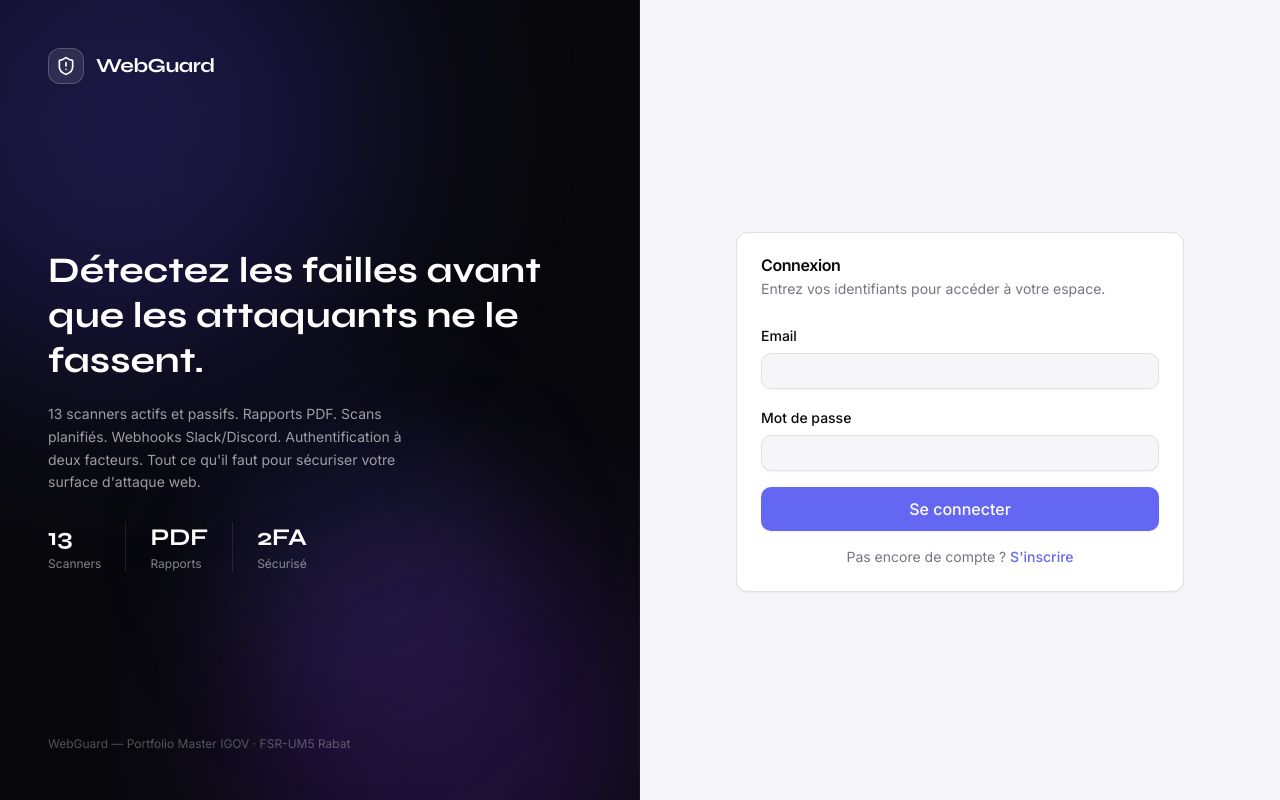
Scenario: LoginPage › switches to TOTP step when totp_required is true
Type "u@test.com" into the field labelled "Email".
click(960, 371); type("u@test.com")  # box [761,353,1159,389]
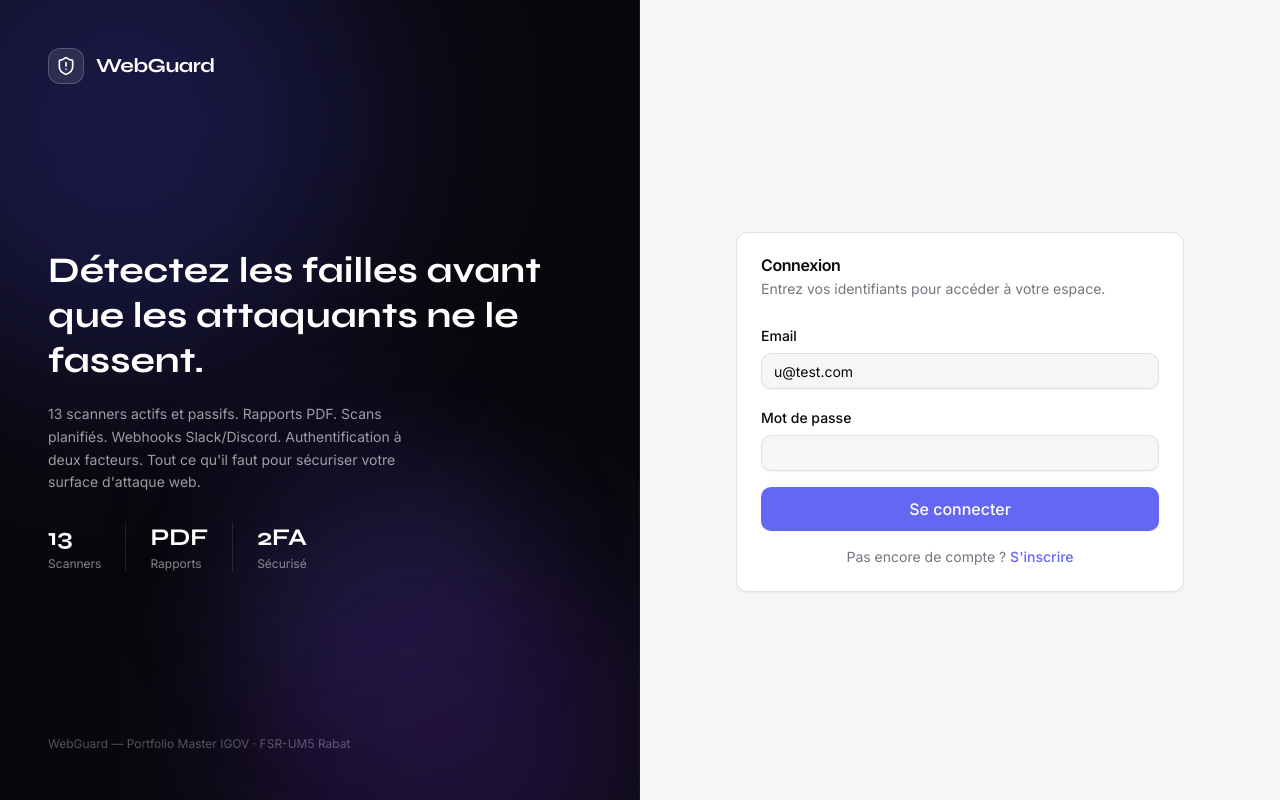
Type "password" into the password field labelled "Mot de passe".
click(960, 453); type("password")  # box [761,435,1159,471]
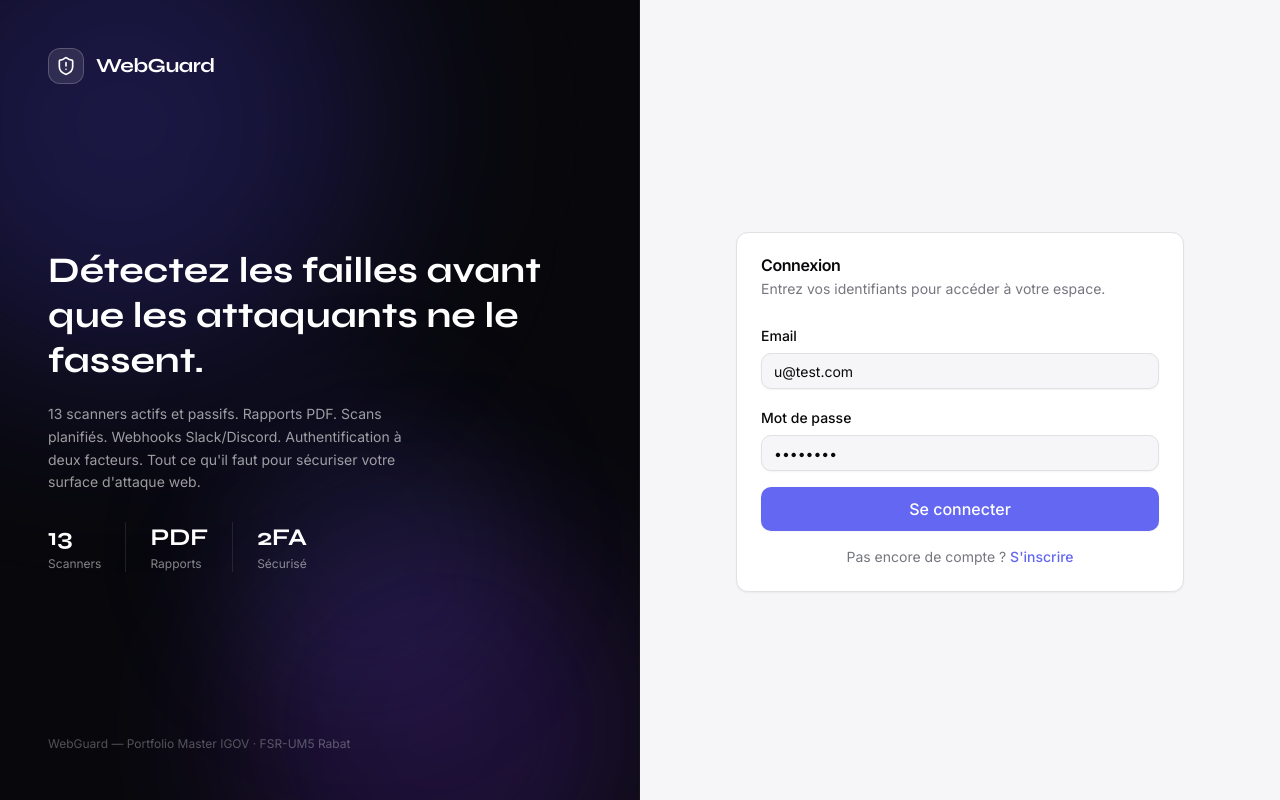
Click the button "Se connecter".
click(960, 509)  # box [761,487,1159,531]
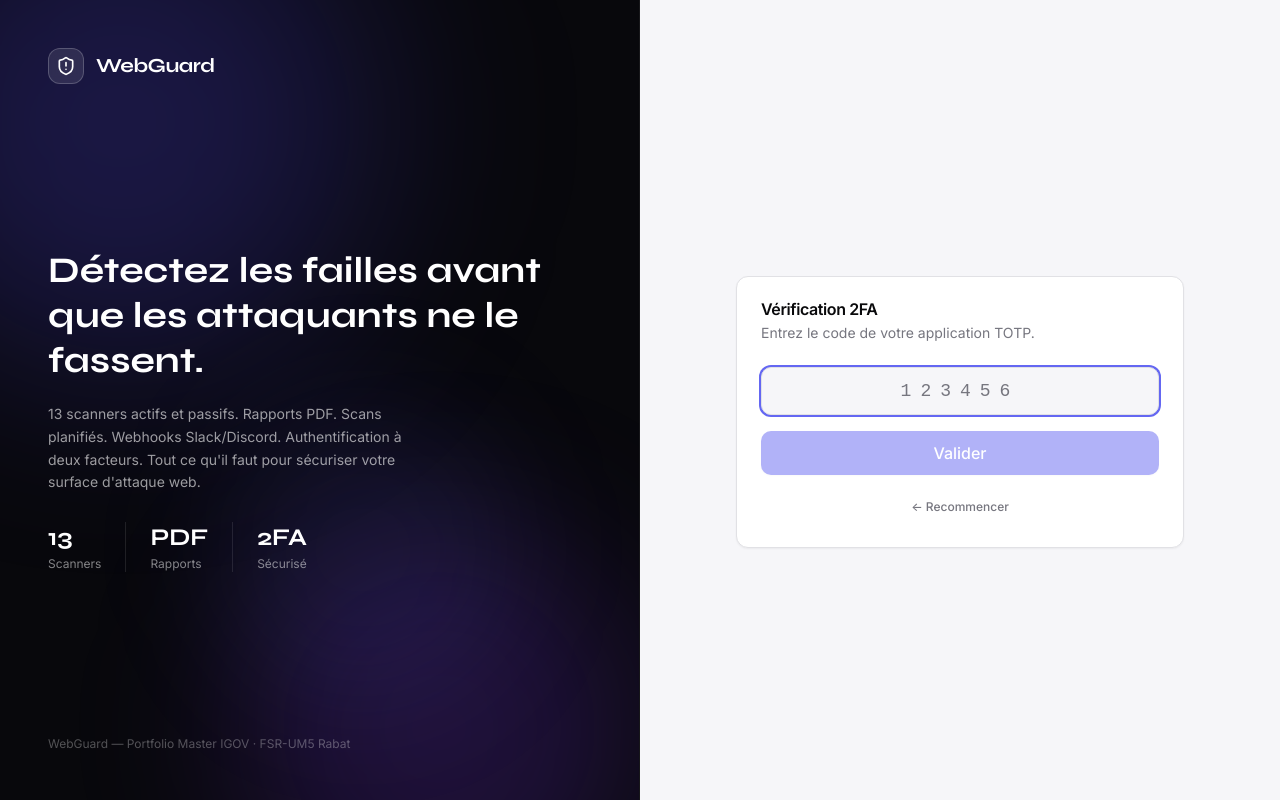
Expected: the heading "Vérification 2FA" is shown, [761,299,878,319]
